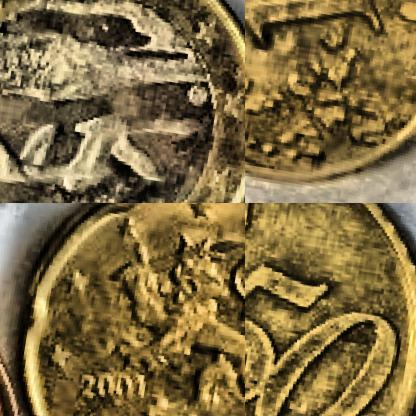coin: (0, 203, 244, 415), (0, 0, 244, 202), (245, 203, 415, 415), (245, 0, 415, 202)
